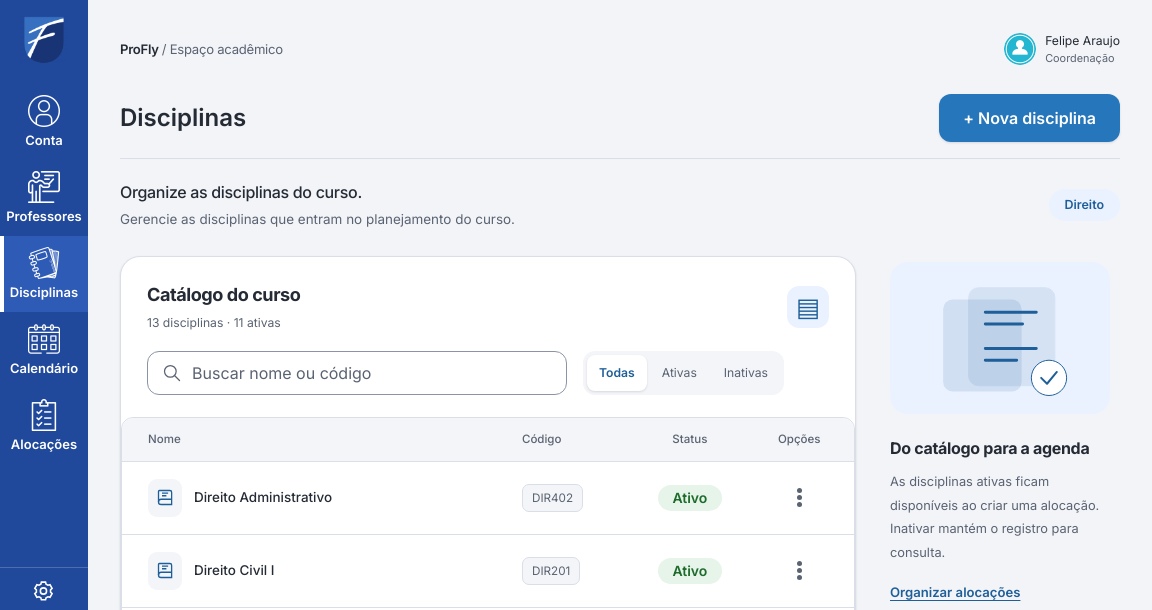
Disciplinas › geração automática do código › preserva códigos fora do padrão e não os repete
Expected: the text "Direito Civil I" is shown, [148,552,274,590]
Click the button "+ Nova disciplina" at (1030, 118), box [939,94,1120,142]
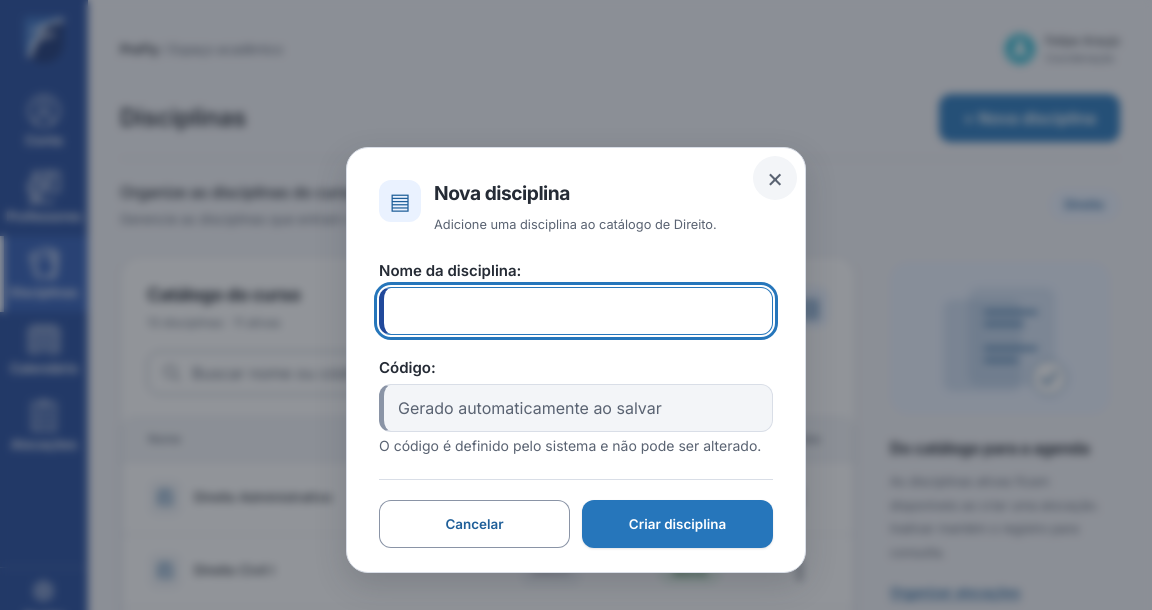
Type "Direito Ambiental" into the field labelled "Nome da disciplina:" at (578, 310), box [384,288,772,334]
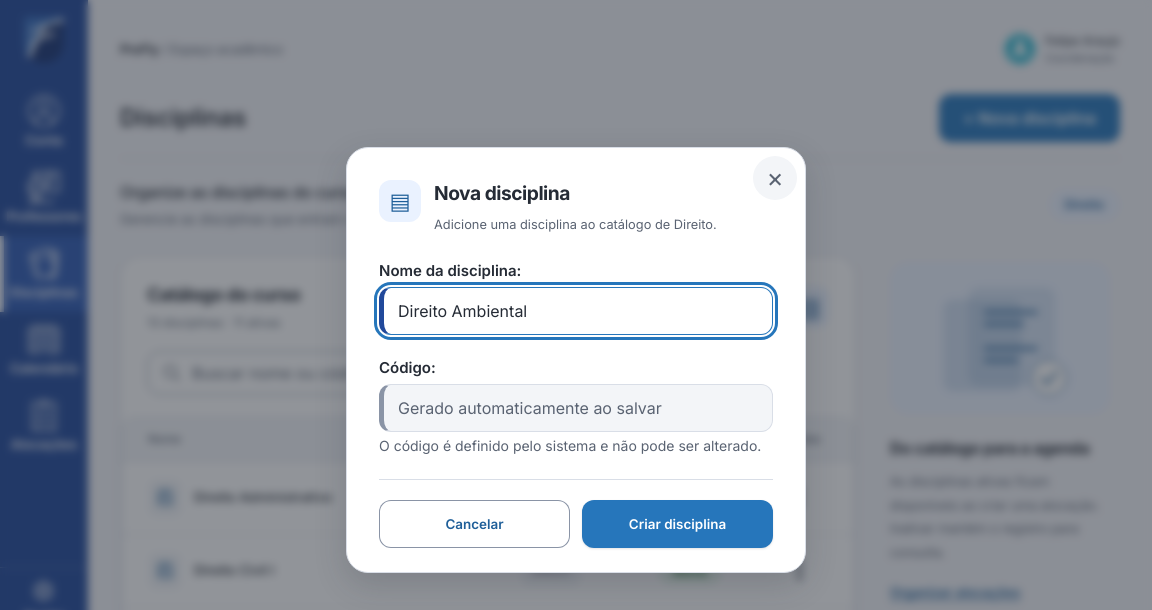
Click the button "Criar disciplina" at (678, 524), box [582,500,773,548]
(page scrolled)
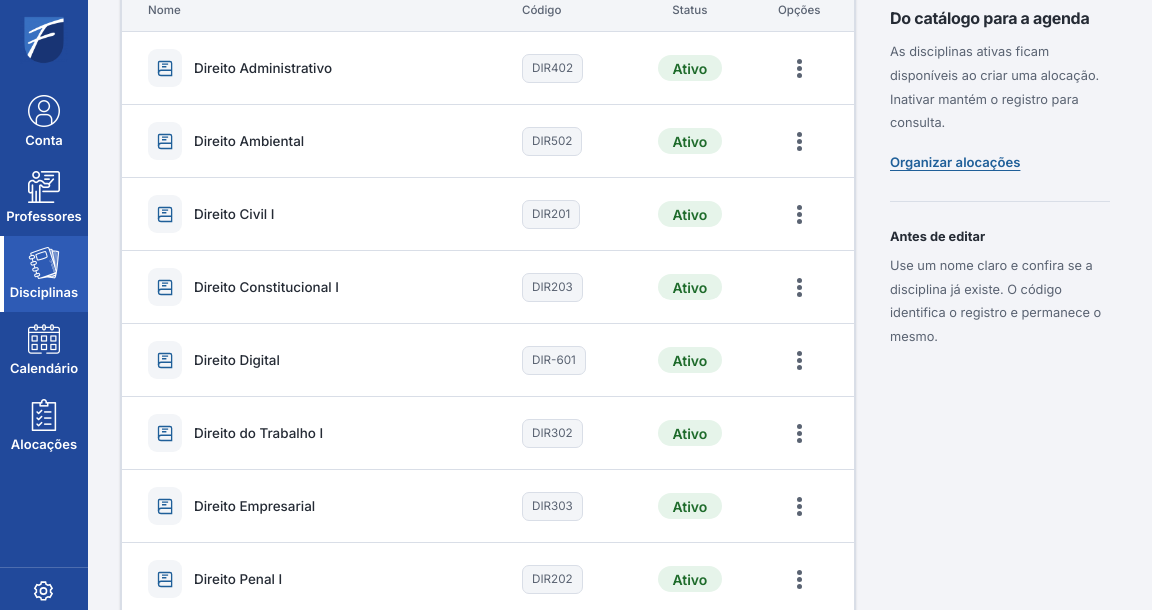
Expected: the text "DIR-601" is shown, [522,346,586,375]
Expected: the text "DIR502" is shown, [522,127,582,156]
